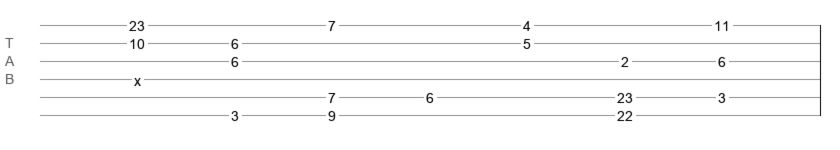10: (129, 36, 145, 46)
11: (714, 18, 730, 28)
2: (621, 54, 629, 64)
22: (617, 108, 633, 118)
23: (129, 18, 145, 28), (617, 90, 633, 100)
3: (231, 108, 239, 118), (718, 90, 726, 100)
4: (523, 18, 531, 28)
5: (523, 36, 531, 46)
6: (231, 36, 239, 46), (231, 54, 239, 64), (426, 90, 434, 100), (718, 54, 726, 64)
7: (328, 18, 336, 28), (328, 90, 336, 100)
9: (328, 108, 336, 118)
x: (134, 73, 141, 81)
